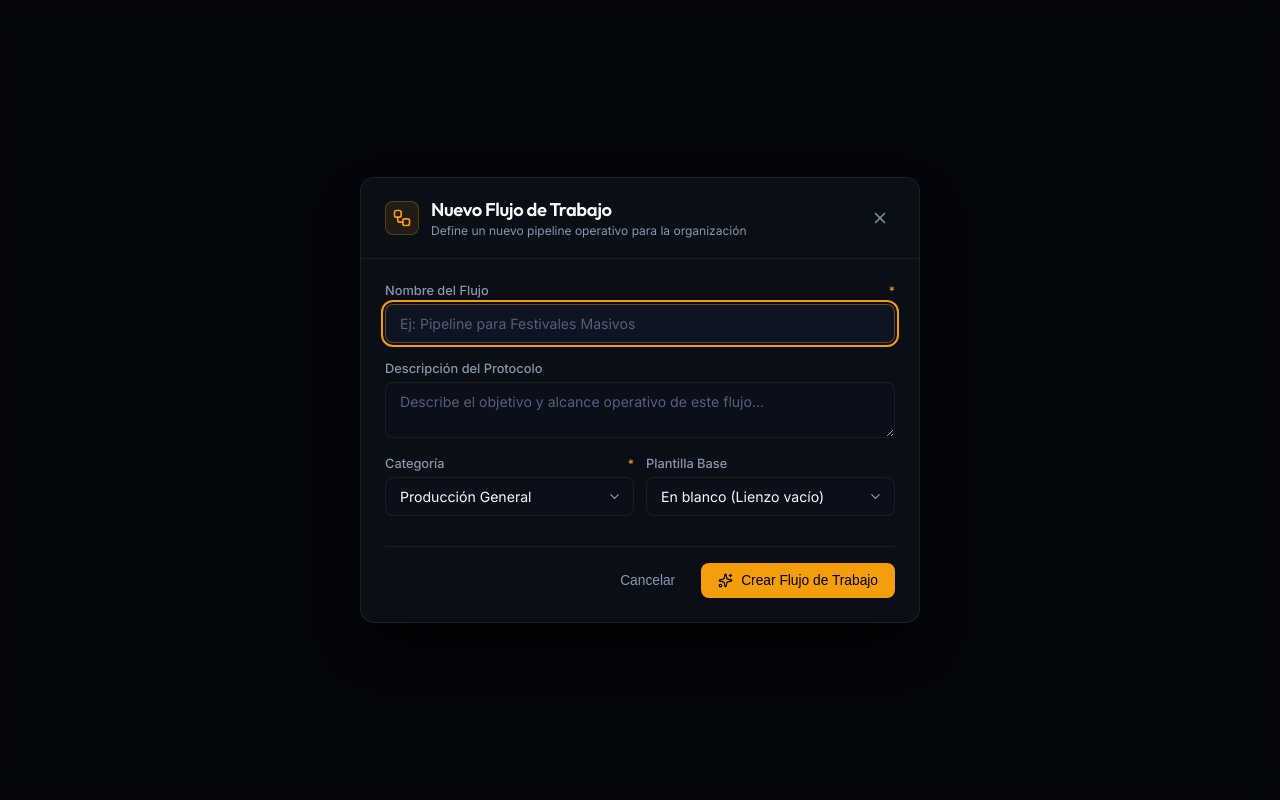
Test case: Workflow & Process Pipeline Suite › CreateWorkflowModal › muestra error de validación cuando el nombre del flujo es inválido
Step 1. Click the button "Crear Flujo de Trabajo" → point(798, 580), box [701, 563, 895, 598]
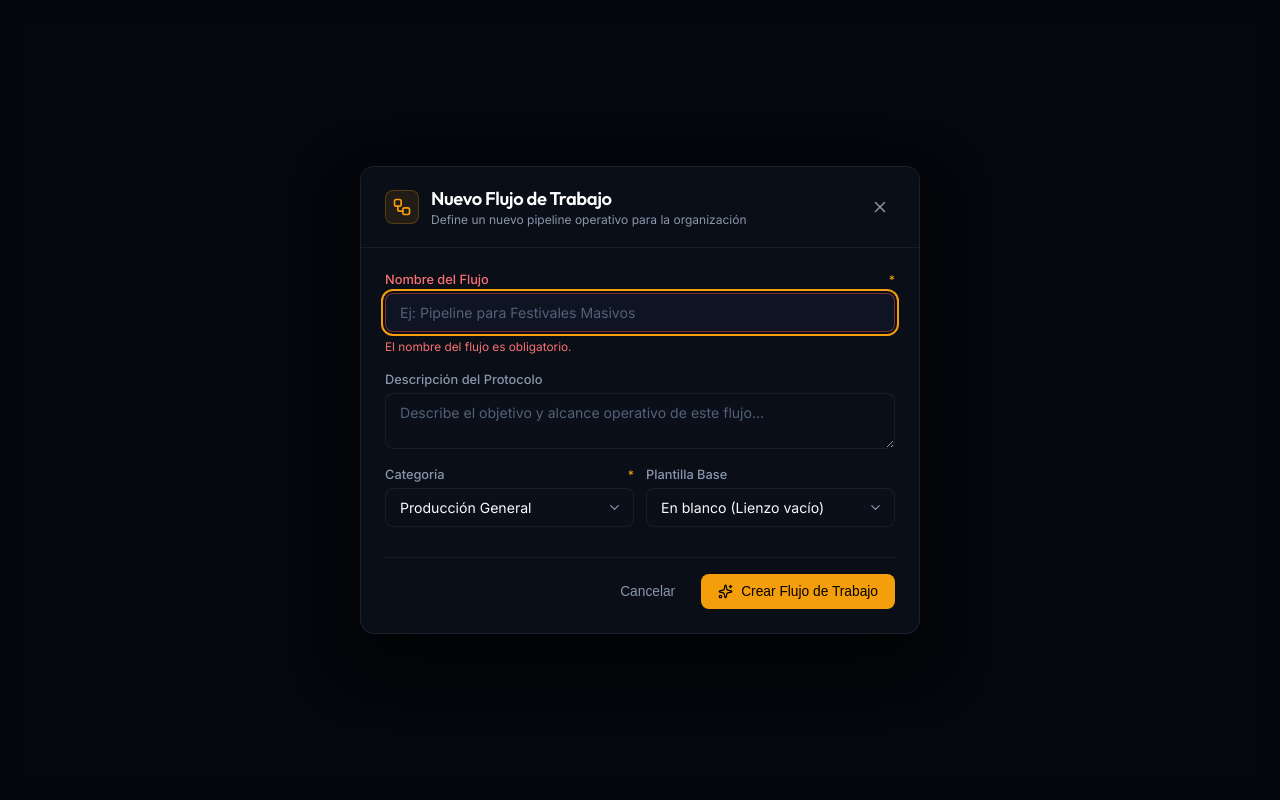
Check: the text "El nombre del flujo es obligatorio." is shown, box [385, 340, 572, 354]
